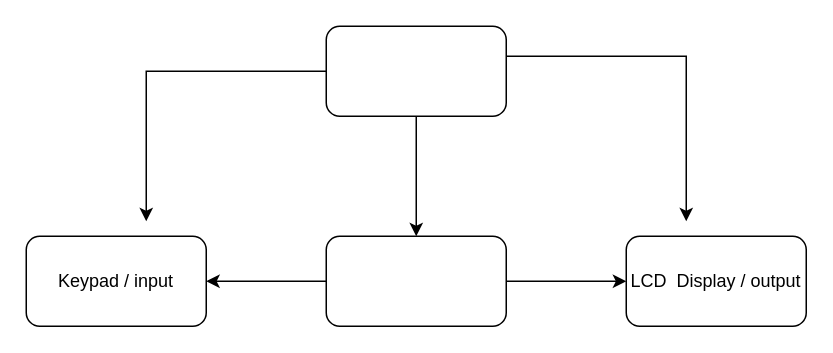
Some shapes in this 833 by 353 pixel diagram are drawn without their labels. Each missing label, with the centre of its shape:
Atmega-16: pixel 415 280
Power Supply: pixel 415 70
